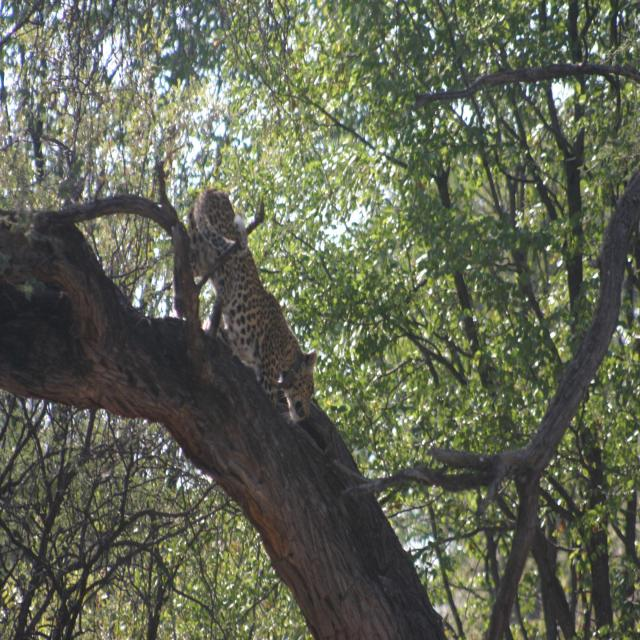Leopard: (173, 186, 339, 484)
